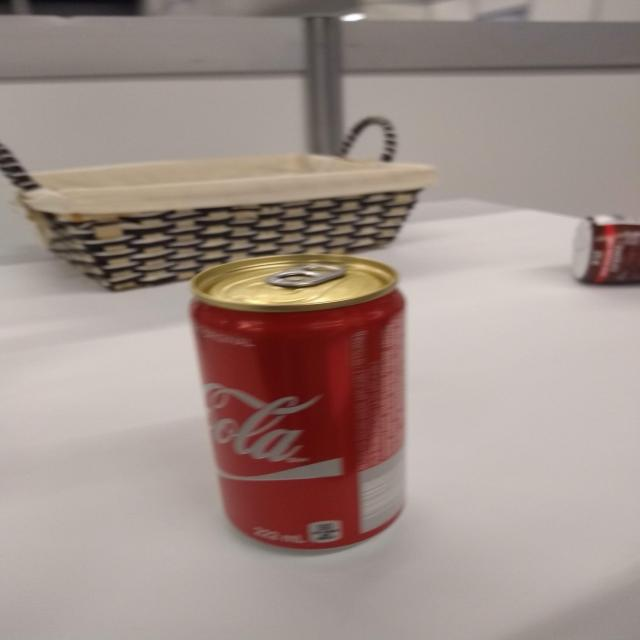coke: (184, 256, 419, 560)
